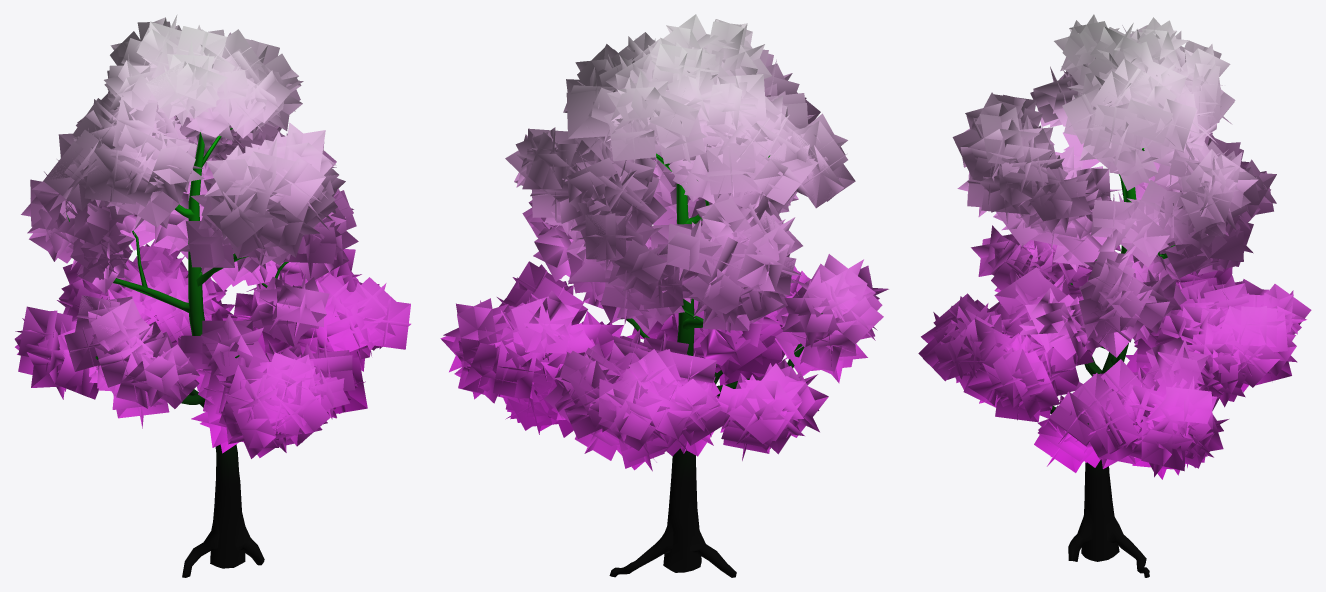
Rendered from TSI_Springleaf_Tree_02A.fbx.
3 views of the same model, side by side, from view 1: azimuth 30°, elevation 25°; view 2: azimuth 150°, elevation 25°; view 3: azimuth 270°, elevation 25° (orthographic). The views are drawn at different scales.
Parts seen in each view (by area): view 1: TSI_Springleaf_Tree_02A_LOD0; view 2: TSI_Springleaf_Tree_02A_LOD0; view 3: TSI_Springleaf_Tree_02A_LOD0.
Part boxes in pixels (x1=…): TSI_Springleaf_Tree_02A_LOD0: x1=14, y1=14, x2=410, y2=577; TSI_Springleaf_Tree_02A_LOD0: x1=440, y1=14, x2=888, y2=577; TSI_Springleaf_Tree_02A_LOD0: x1=918, y1=14, x2=1311, y2=577.
Size of what is drawn, in the model's own units: 1465 by 2044 by 1384.
